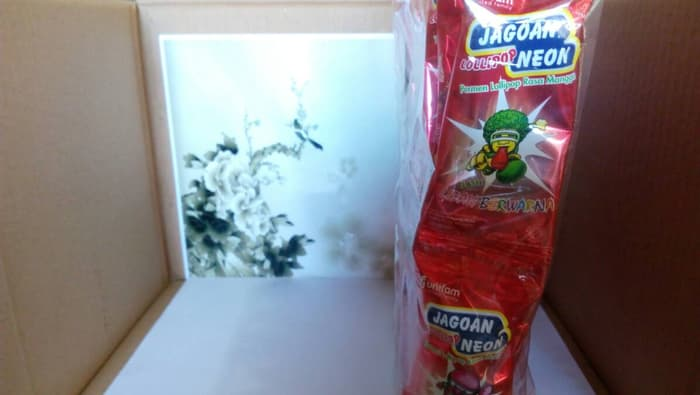jagoan_neon: (414, 1, 596, 273), (414, 240, 551, 395)
